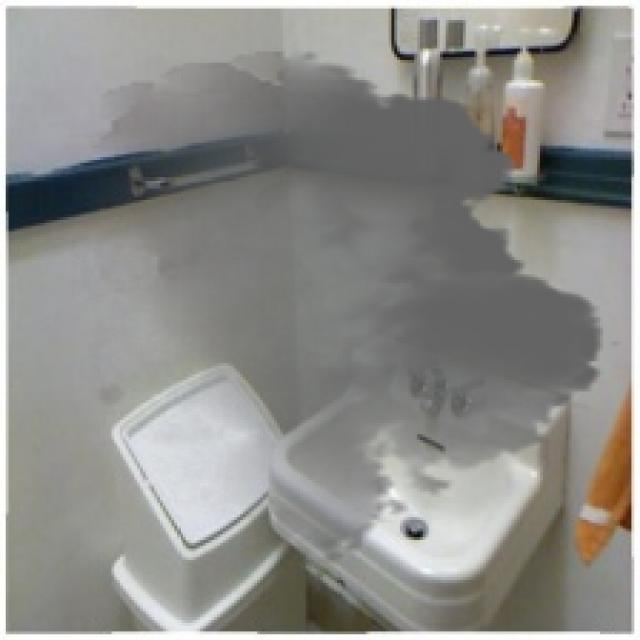smoke: (71, 51, 623, 566)
